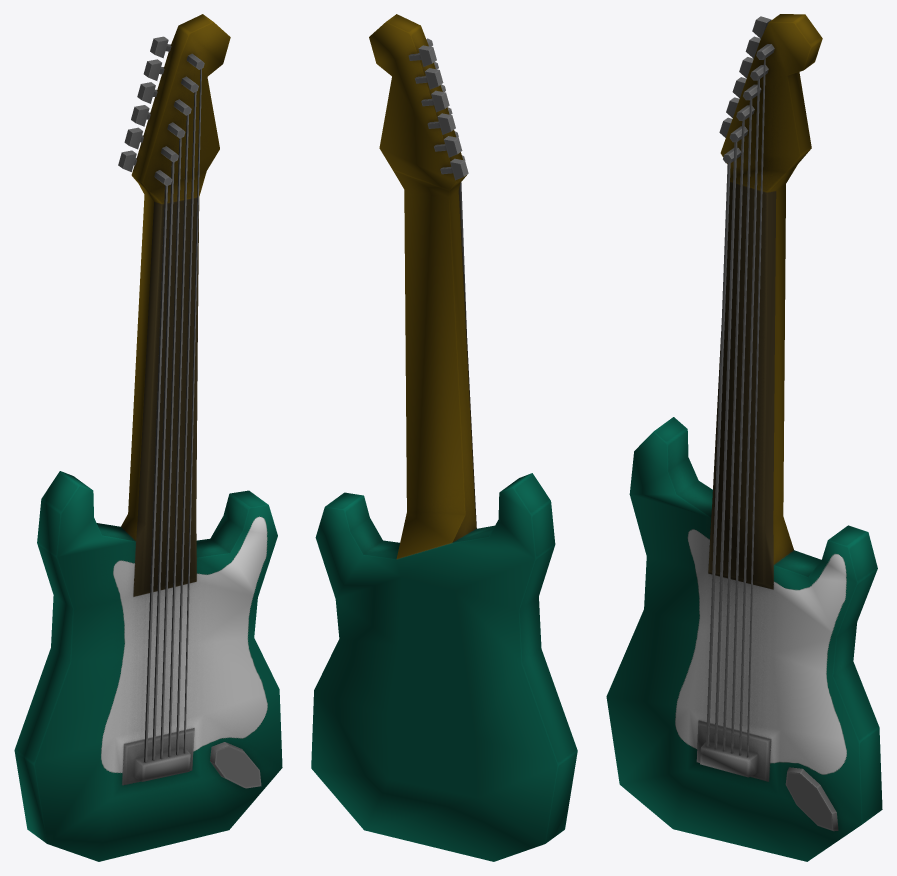
The model's file is electric.glb.
The picture shows the model from 3 angles, left to right: view 1: azimuth 30°, elevation 25°; view 2: azimuth 150°, elevation 25°; view 3: azimuth 330°, elevation 25°; orthographic projection. The views are drawn at different scales.
Visible parts, largest first — view 1: Electric_Body, Guitar_String_E2, Guitar_String_A2, Guitar_String_G3, Guitar_String_B3, Guitar_String_D3, Guitar_String_E4; view 2: Electric_Body; view 3: Electric_Body, Guitar_String_E2, Guitar_String_A2, Guitar_String_G3, Guitar_String_B3, Guitar_String_D3, Guitar_String_E4.
Boxes of the visible parts, box(x1,y1,x2,y2) form: Electric_Body: box(14, 14, 282, 861); Guitar_String_E2: box(144, 185, 167, 762); Guitar_String_A2: box(152, 162, 174, 760); Guitar_String_G3: box(168, 114, 188, 757); Guitar_String_B3: box(176, 91, 196, 755); Guitar_String_D3: box(160, 138, 181, 759); Guitar_String_E4: box(183, 69, 201, 753); Electric_Body: box(311, 14, 577, 861); Electric_Body: box(606, 14, 882, 861); Guitar_String_E2: box(706, 163, 730, 747); Guitar_String_A2: box(714, 142, 737, 749); Guitar_String_G3: box(730, 99, 752, 753); Guitar_String_B3: box(739, 79, 759, 755); Guitar_String_D3: box(722, 120, 744, 751); Guitar_String_E4: box(747, 58, 765, 757).
Bounding box in the file's own units: 1.28 × 4 × 0.2545.
1 material, 1 textured.
